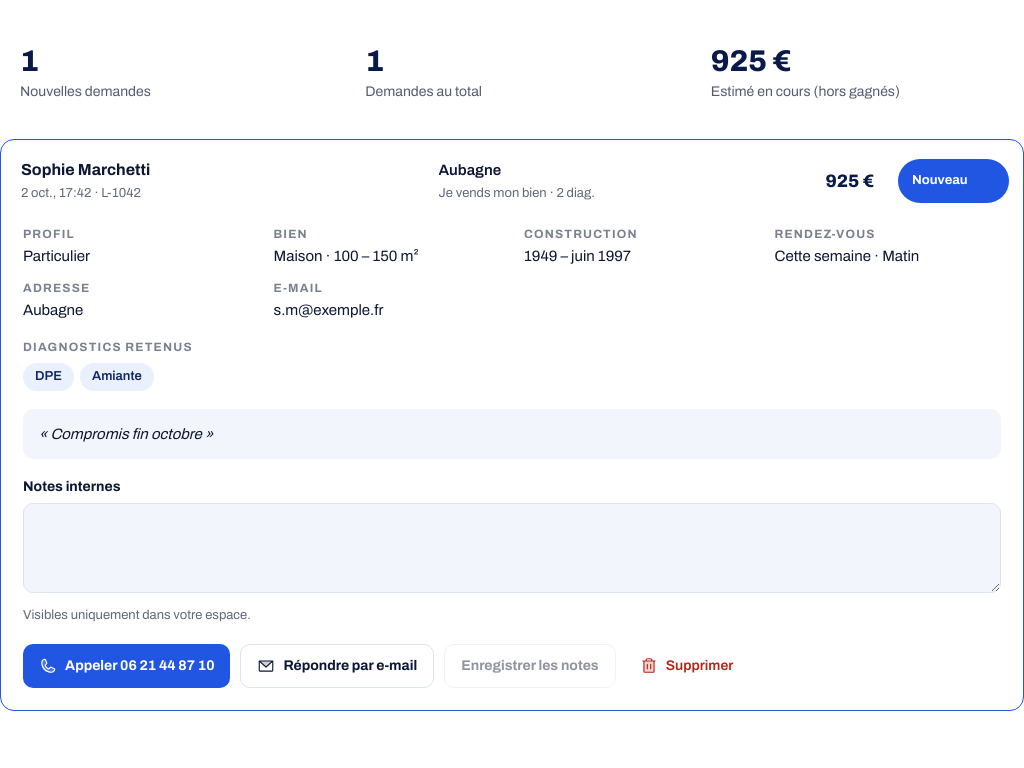
Test: LeadList › statut refusé : retour à l’ancien statut
Select "Perdu" in the dropdown named "Statut de L-1042": (954, 181) [898,159,1009,203]
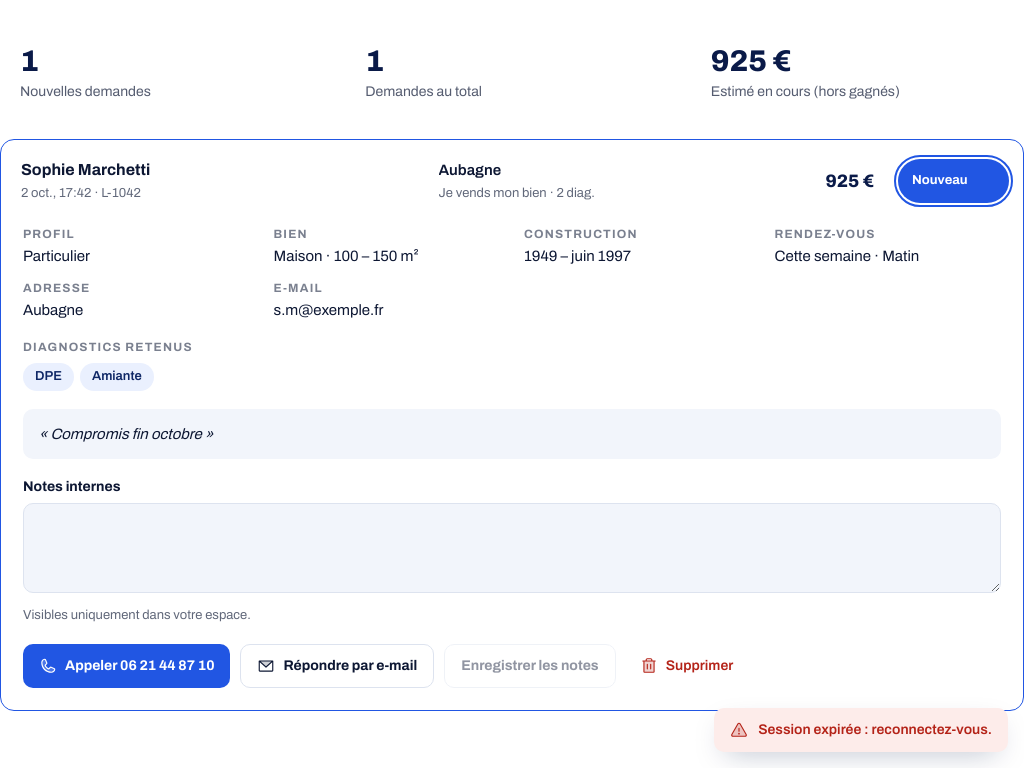
expect the text "Session expirée : reconnectez-vous." is shown: met, box [714,708,1008,752]
